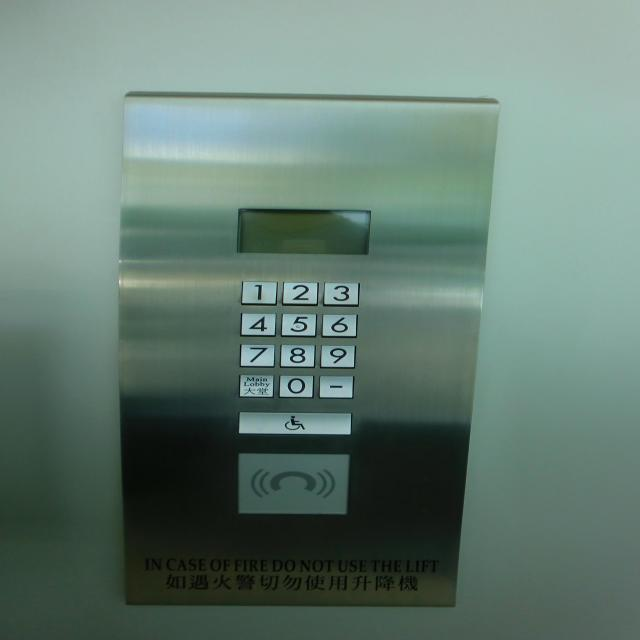-: (318, 374, 356, 400)
0: (277, 373, 315, 399)
1: (240, 280, 278, 306)
2: (280, 280, 318, 306)
3: (321, 281, 362, 308)
4: (240, 312, 278, 336)
5: (281, 313, 317, 337)
6: (320, 312, 358, 338)
7: (239, 342, 276, 368)
8: (280, 343, 318, 369)
9: (318, 344, 356, 369)
CH: (238, 410, 352, 436)
led: (233, 201, 374, 258)
text: (238, 373, 274, 399)
